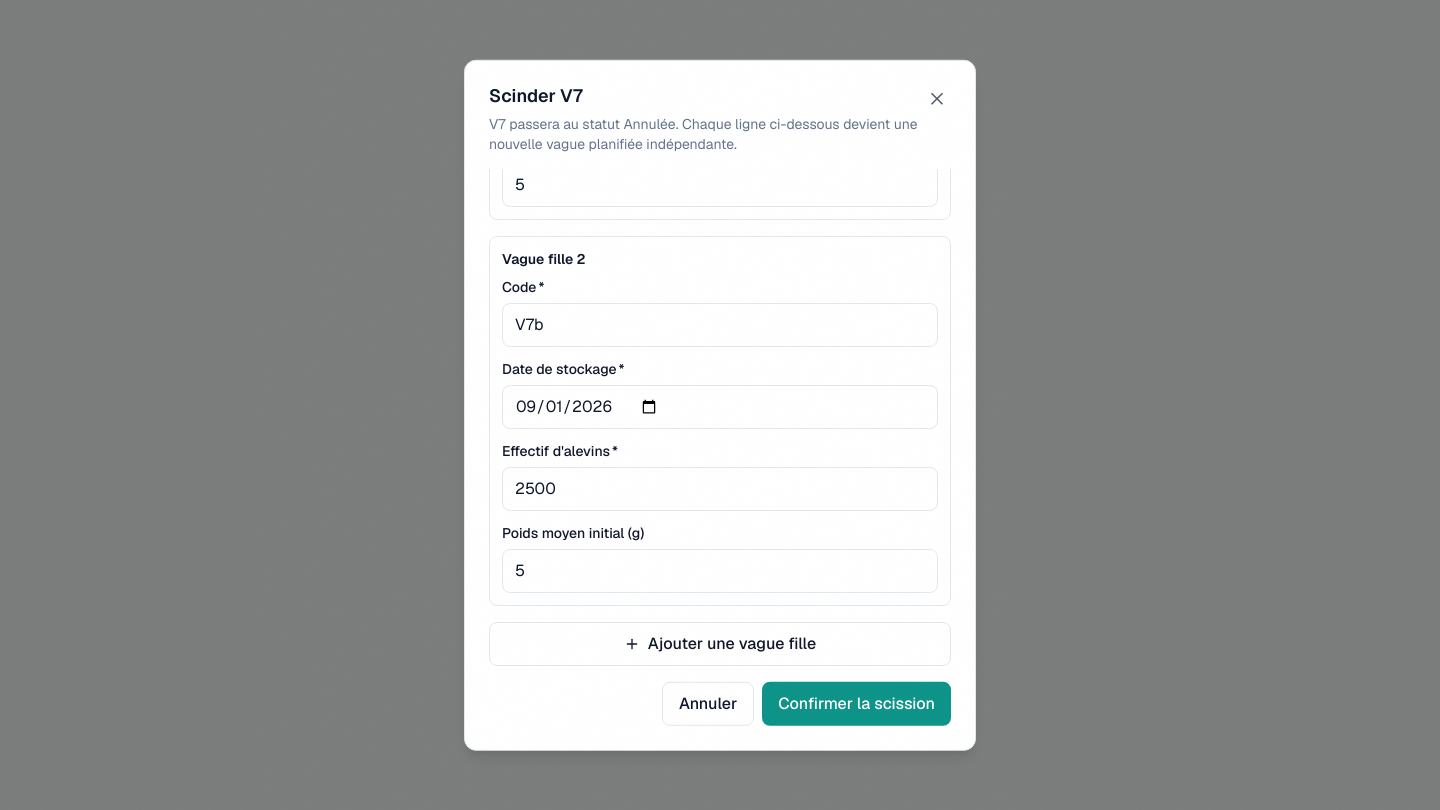
it: ScissionDialog — minimum 2 lignes filles › ajouter une ligne fait apparaître les 3 boutons de suppression (n>2)
This screenshot has width=1440, height=810.
(page scrolled)
Click the button "Ajouter une vague fille" at (720, 643), box [489,621,951,665]
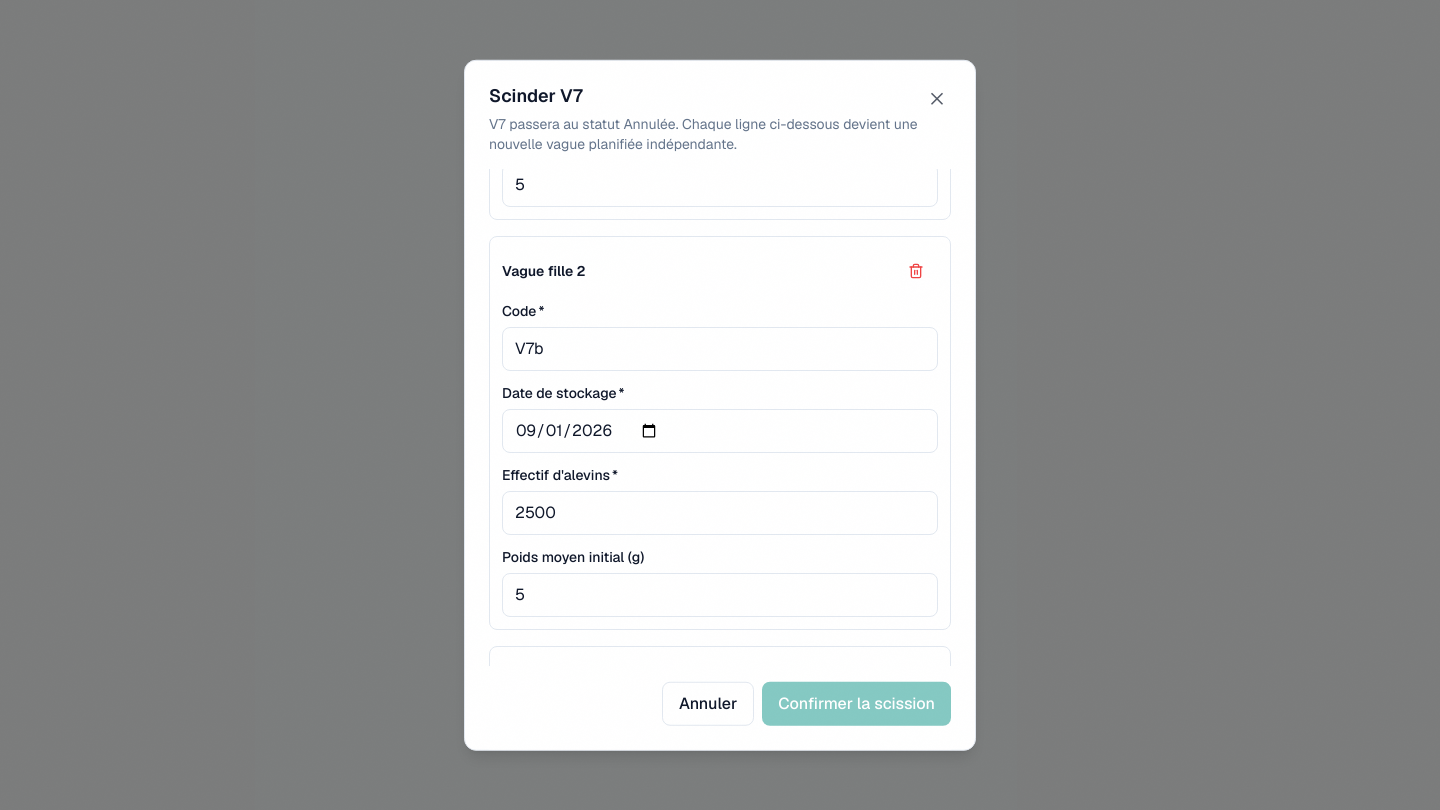
Now the number of fields labelled "Supprimer la vague fille" is 3
